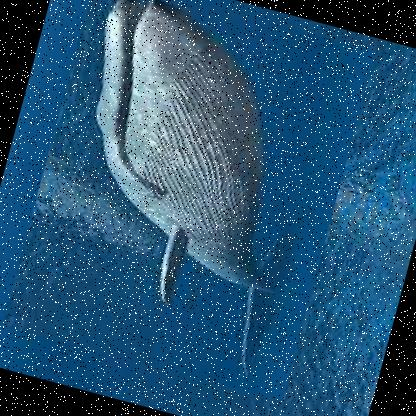blue_whale: (0, 0, 375, 402)
